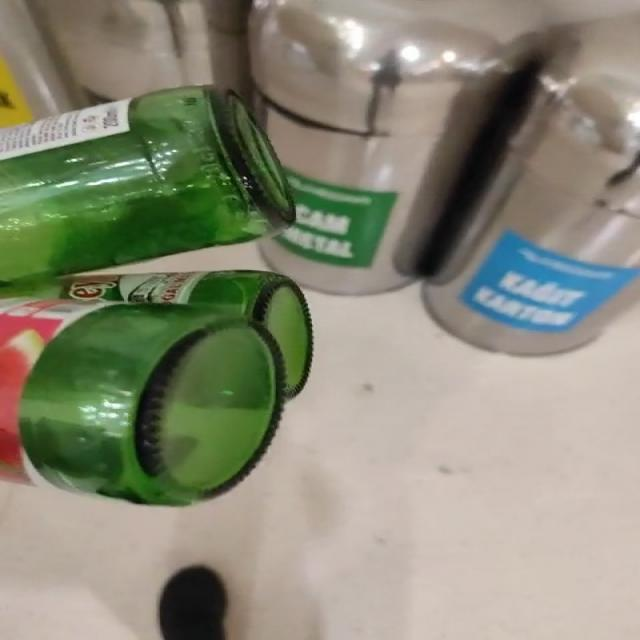bin: (249, 0, 639, 355)
glass: (0, 85, 312, 506)
